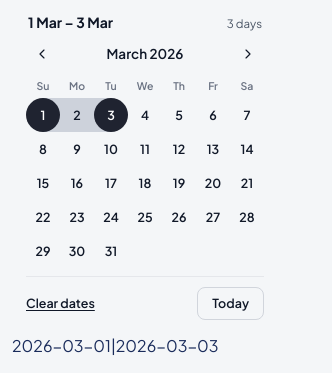
it: DateCalendar range › picks a start, then an end, and saves on the end
Opening starts a fresh pick: the first click is the start.
Click the button "5": (179, 115) [162,98,196,132]
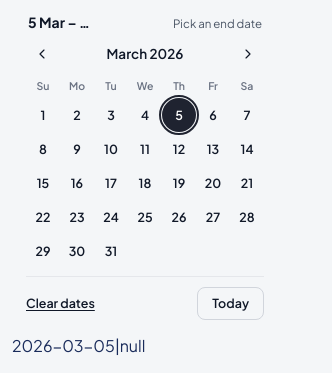
Expected: the text with test id "value" reads "2026-03-05|null", [12,335,145,356]
Click the button "16": (77, 183) [60,166,94,200]
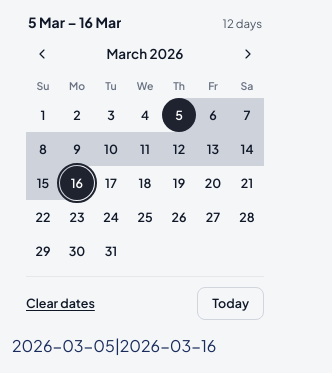
Expected: the text "12 days" is shown, [223,15,262,32]
